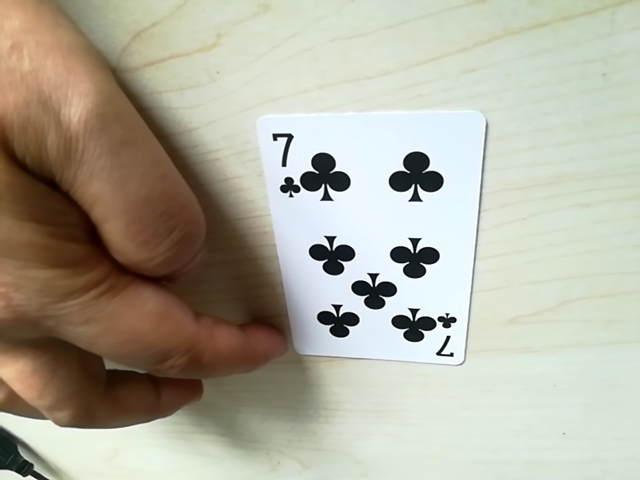mh 7: (263, 128, 301, 192), (414, 316, 457, 357)
